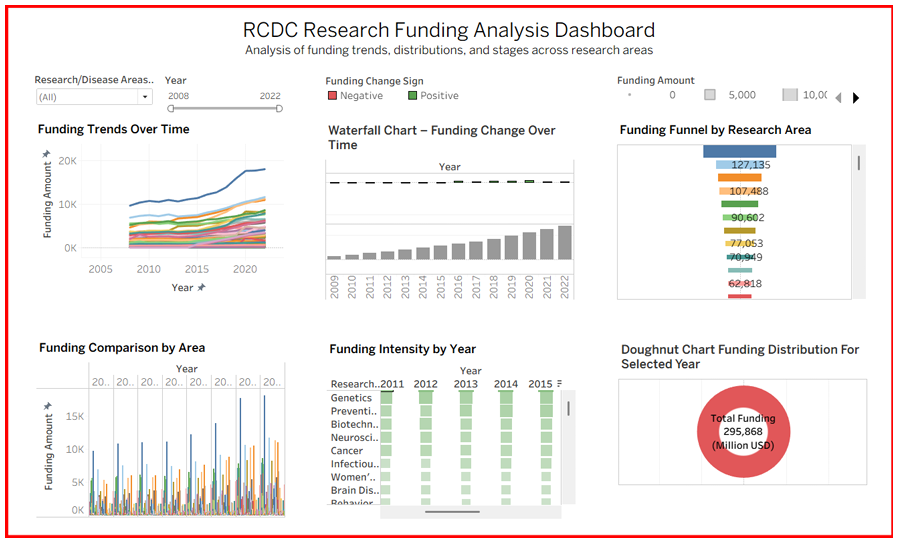

This screenshot's page, from the dashboard's own definition file:
{"tool":"tableau","page":{"name":" RCDC Research Funding Analysis Dashboard","canvas":[1000,1000],"units":"permille","ordinal":0},"visuals":[{"type":"title","box":[6.7,10,986.7,86.2]},{"type":"filter","title":"Q2.3_Side By SideBar Funding Comparison","param":"[federated.18dqi9h0fn5xmz19udzbg0iv130m].[none:Research/Disease Areas   (Dollars","box":[27.3,114.7,142.4,74.8]},{"type":"filter","title":"Q2.3_Side By SideBar Funding Comparison","param":"[federated.18dqi9h0fn5xmz19udzbg0iv130m].[none:Pivot Field Names:qk]","box":[175,116,142.4,83.5]},{"type":"legend","title":"Q7.2 – Heat Map (Funding Intensity)","param":"[federated.18dqi9h0fn5xmz19udzbg0iv130m].[sum:Pivot Field Values:qk]","box":[687.1,116,287.9,74.8]},{"type":"legend","title":"Q8.1 Waterfall Chart – Funding Change Over Time","param":"[federated.18dqi9h0fn5xmz19udzbg0iv130m].[usr:Calculation_0669899697754115:nk:1]","box":[356.8,117.2,287.9,74.8]},{"type":"worksheet","title":"Q5_Trend Analysis Predict funding trends","mark":"Line","rows":["Pivot Field Values"],"cols":["Pivot Field Names"],"box":[28,203.2,287.9,349.1]},{"type":"worksheet","title":"Q8.3_Funnel Chart: Show funding stages.  ","mark":"Bar","rows":["Research/Disease Areas   (Dollars in millions and rounded)"],"cols":["Pivot Field Values","Calculation_0726524771700738"],"box":[687.1,204.5,287.9,349.1]},{"type":"worksheet","title":"Q8.1 Waterfall Chart – Funding Change Over Time","mark":"Bar","rows":["Calculation_0669899693330433","Calculation_0669899693797378"],"cols":["Pivot Field Names"],"box":[356.8,205.7,287.9,349.1]},{"type":"worksheet","title":"Q2.3_Side By SideBar Funding Comparison","mark":"Bar","rows":["Pivot Field Values"],"cols":["Pivot Field Names","Research/Disease Areas   (Dollars in millions and rounded)"],"box":[29.6,616,287.9,349.1]},{"type":"worksheet","title":"Q7.2 – Heat Map (Funding Intensity)","mark":"Square","rows":["Research/Disease Areas   (Dollars in millions and rounded)"],"cols":["Pivot Field Names"],"box":[358.3,618.5,287.9,349.1]},{"type":"worksheet","title":"Q8.2 – Doughnut_Chart_Funding_Distribution_Among_Research_Areas_For_Selected_Year","mark":"Pie","cols":["Pivot Field Values","Pivot Field Values"],"box":[688.6,619.7,287.9,349.1]}]}

Visuals, with their boxes on the dashboard's canvas, which has no fixed pixel size, in thousandths of its width and height (x1, y1, x2, y2). These are canvas units, not pixel positions in the 897x543 screenshot, which may show the page scaled, cropped or inside an application window:
title: region(7, 10, 993, 96)
"Q2.3_Side By SideBar Funding Comparison" filter: region(27, 115, 170, 190)
"Q2.3_Side By SideBar Funding Comparison" filter: region(175, 116, 317, 200)
"Q7.2 – Heat Map (Funding Intensity)" legend: region(687, 116, 975, 191)
"Q8.1 Waterfall Chart – Funding Change Over Time" legend: region(357, 117, 645, 192)
"Q5_Trend Analysis Predict funding trends" worksheet (Line marks): region(28, 203, 316, 552)
"Q8.3_Funnel Chart: Show funding stages.  " worksheet (Bar marks): region(687, 204, 975, 554)
"Q8.1 Waterfall Chart – Funding Change Over Time" worksheet (Bar marks): region(357, 206, 645, 555)
"Q2.3_Side By SideBar Funding Comparison" worksheet (Bar marks): region(30, 616, 318, 965)
"Q7.2 – Heat Map (Funding Intensity)" worksheet (Square marks): region(358, 618, 646, 968)
"Q8.2 – Doughnut_Chart_Funding_Distribution_Among_Research_Areas_For_Selected_Year" worksheet (Pie marks): region(689, 620, 976, 969)
